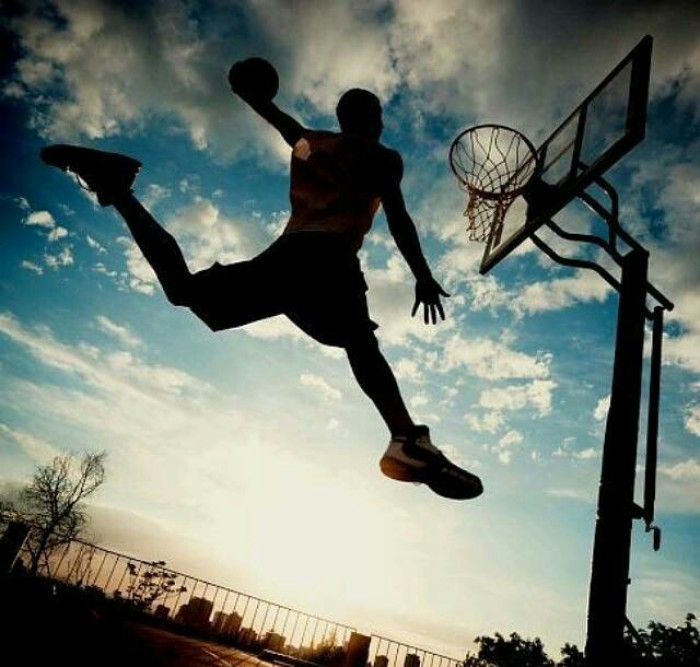ball: (229, 56, 282, 104)
